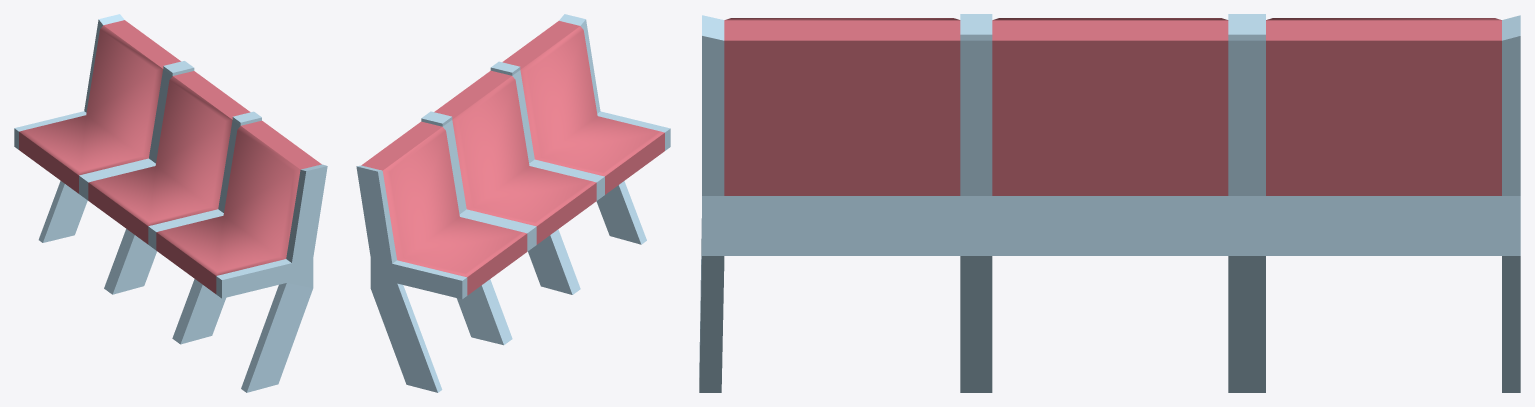
Rendered from Seats.fbx.
3 views of the same model, side by side, from view 1: azimuth 30°, elevation 25°; view 2: azimuth 150°, elevation 25°; view 3: azimuth 270°, elevation 25° (orthographic). The views are drawn at different scales.
Visible parts, largest first — view 1: Seats; view 2: Seats; view 3: Seats.
Part boxes in pixels (x1,y1,x2,y2): Seats: (14,14,327,392); Seats: (356,14,670,392); Seats: (699,14,1520,392).
Bounding box in the file's own units: 76.53 × 143 × 261.
